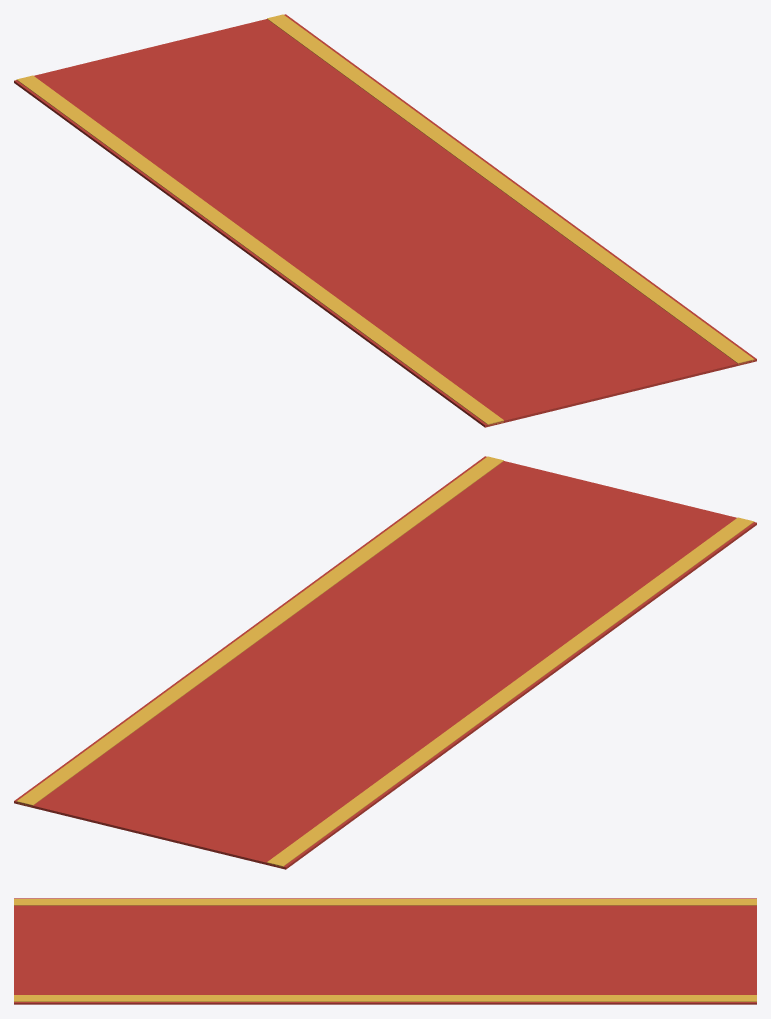
The model's file is PR_Tier_Hali.fbx.
3 views of the same model, one above another, from view 1: azimuth 30°, elevation 25°; view 2: azimuth 150°, elevation 25°; view 3: azimuth 270°, elevation 25° (orthographic). The views are drawn at different scales.
Parts seen in each view (by area): view 1: PR_Tier_Hali; view 2: PR_Tier_Hali; view 3: PR_Tier_Hali.
Boxes of the visible parts, box(x1,y1,x2,y2) form: PR_Tier_Hali: box(14, 14, 756, 427); PR_Tier_Hali: box(14, 456, 756, 869); PR_Tier_Hali: box(14, 898, 756, 1004).
Bounding box in the file's own units: 1 × 0.01 × 3.
